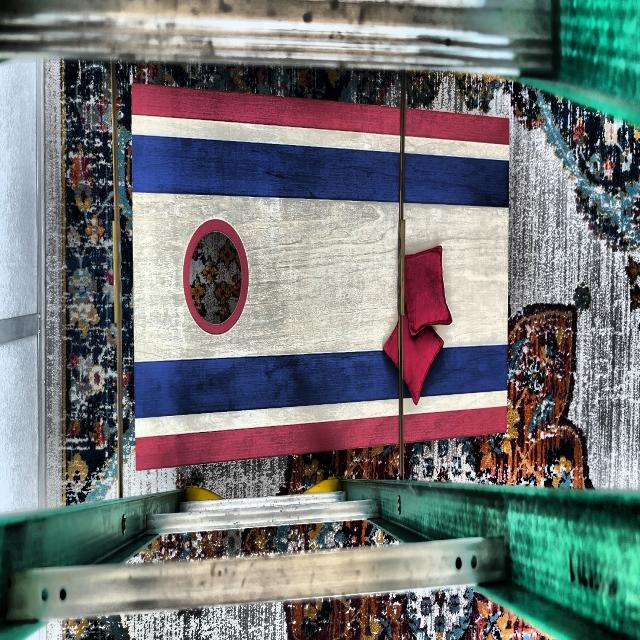board: (135, 120, 505, 433)
hole: (183, 219, 249, 335)
red-bean-bag: (383, 310, 443, 406), (404, 250, 452, 331)
